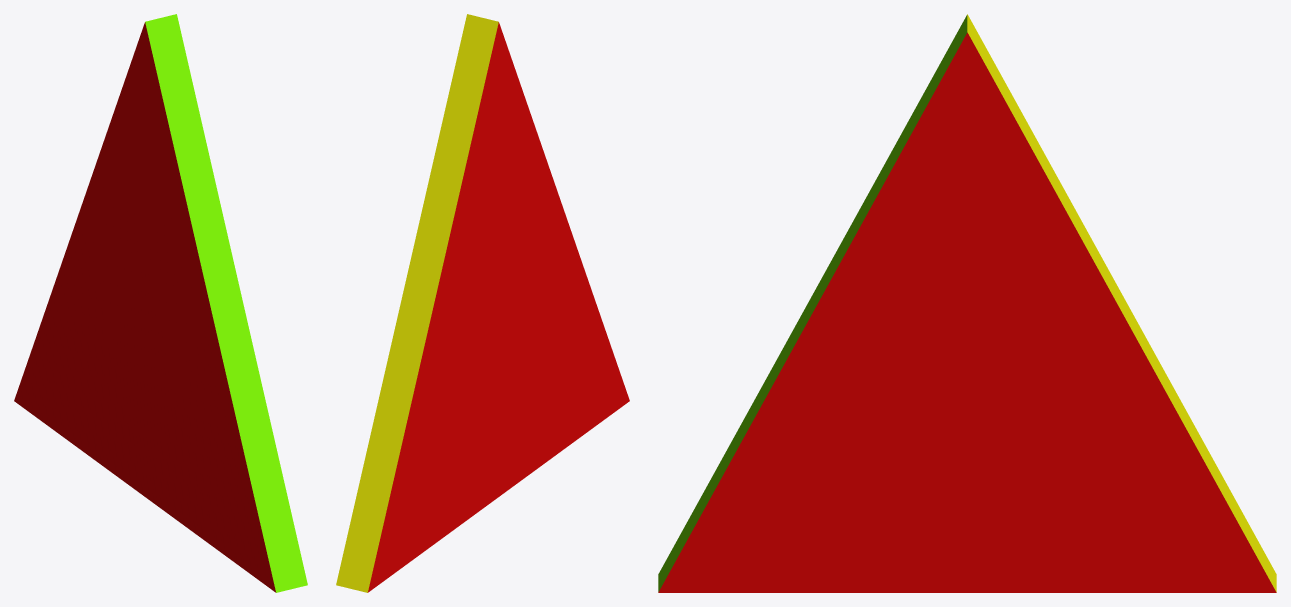
Rendered from Agrupar_3.dae.
3 renders of one model, left to right at view 1: azimuth 30°, elevation 25°; view 2: azimuth 150°, elevation 25°; view 3: azimuth 270°, elevation 25°, orthographic. The views are drawn at different scales.
Parts seen in each view (by area): view 1: SketchUp (×2); view 2: SketchUp (×2); view 3: SketchUp (×3).
Boxes of the visible parts, box(x1,y1,x2,y2) form: SketchUp (×2): box(14, 14, 307, 592); SketchUp (×2): box(336, 14, 629, 592); SketchUp (×3): box(658, 14, 1276, 592).
Bounding box in the file's own units: 2.76 × 39.37 × 39.37.
